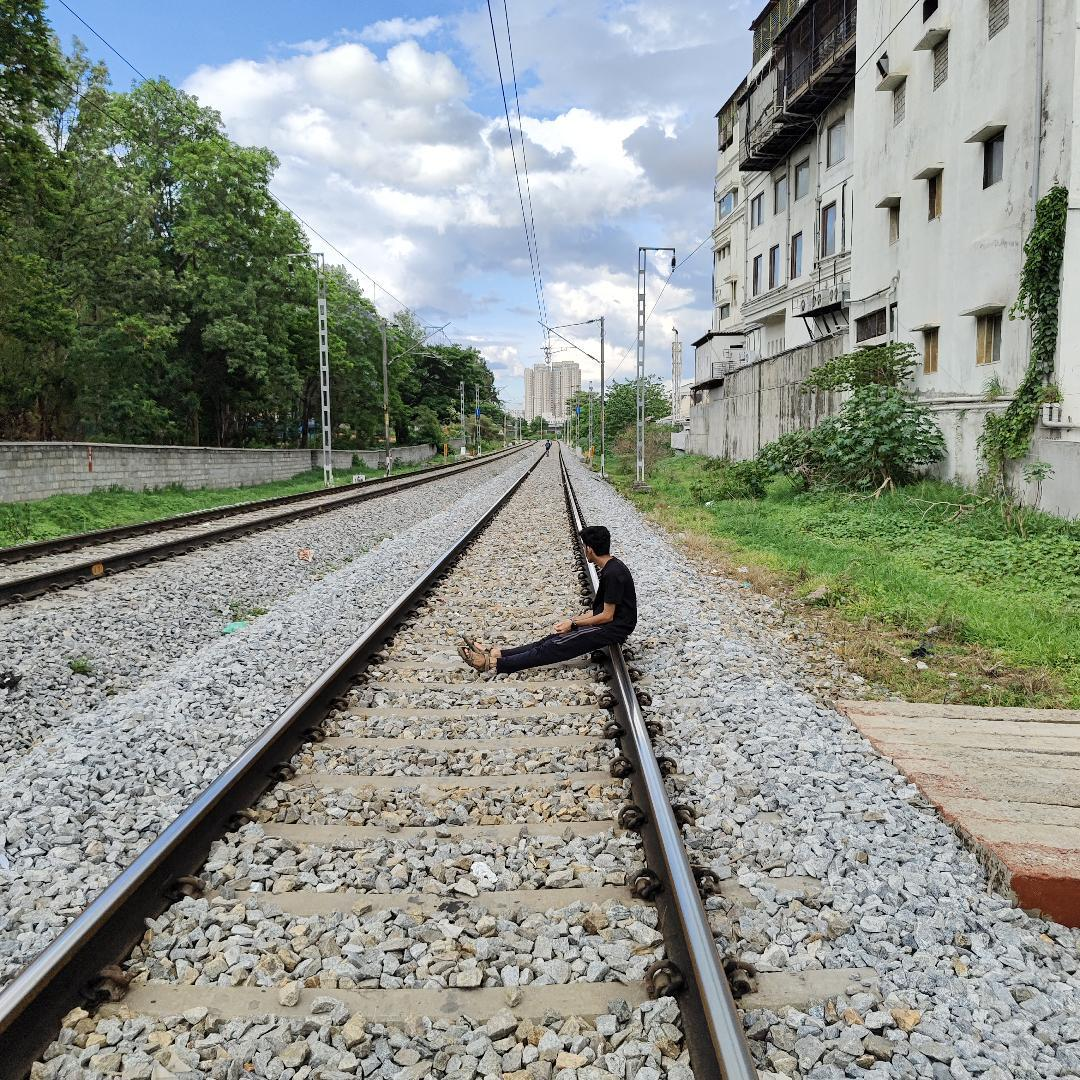sitting: (439, 521, 654, 681)
